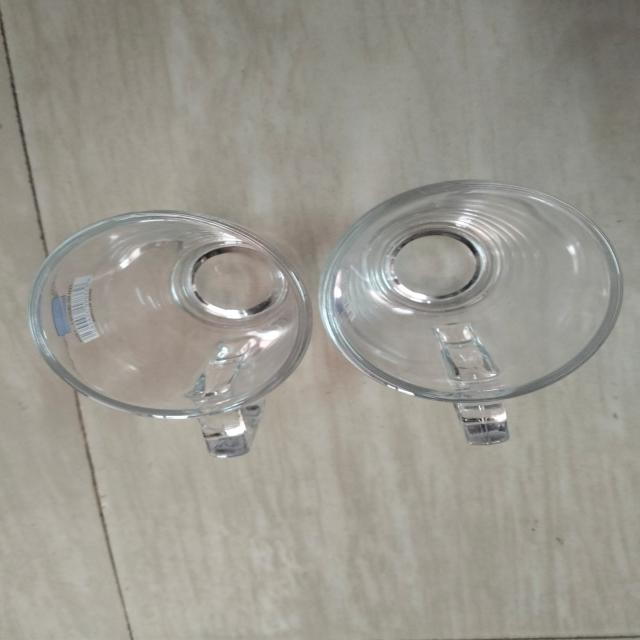glass-VX4N: (322, 172, 633, 453), (24, 206, 310, 464)
